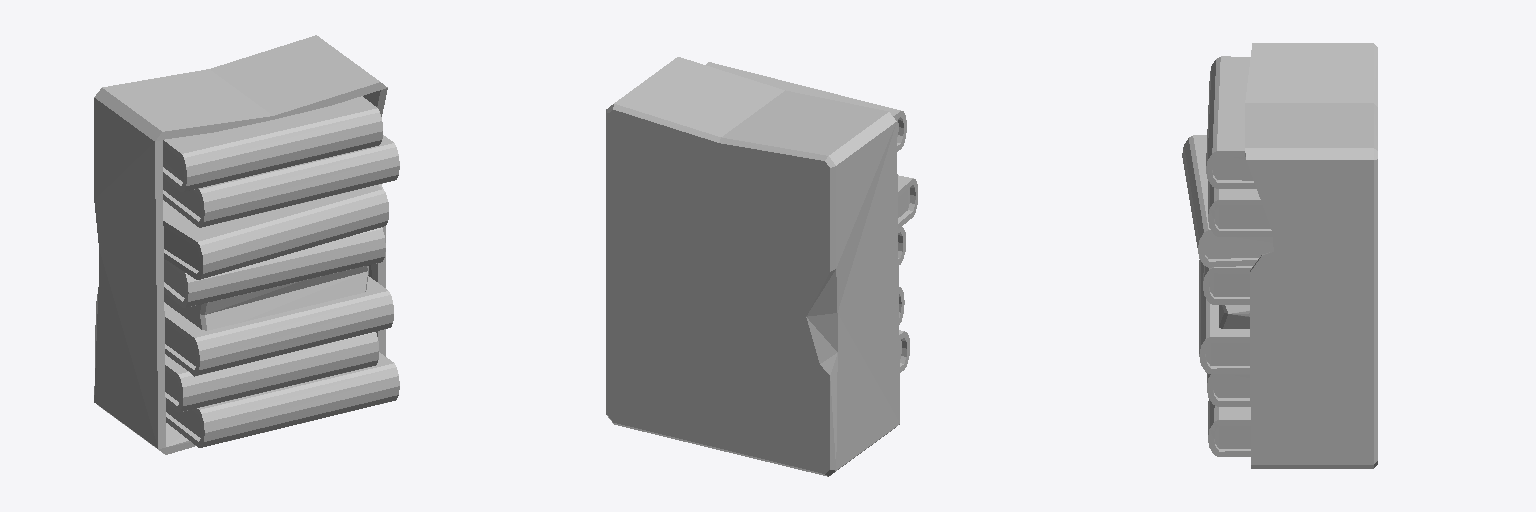
File: box_books.obj
3 renders of one model, left to right at view 1: azimuth 30°, elevation 25°; view 2: azimuth 150°, elevation 25°; view 3: azimuth 270°, elevation 25°, orthographic.
Visible parts, largest first — view 1: box_books; view 2: box_books; view 3: box_books.
Part boxes in pixels (bbox=[...]): box_books: bbox=[94, 35, 399, 454]; box_books: bbox=[606, 57, 917, 476]; box_books: bbox=[1182, 43, 1377, 468].
Size of the model in its own units: 18.68 by 24.91 by 13.78.